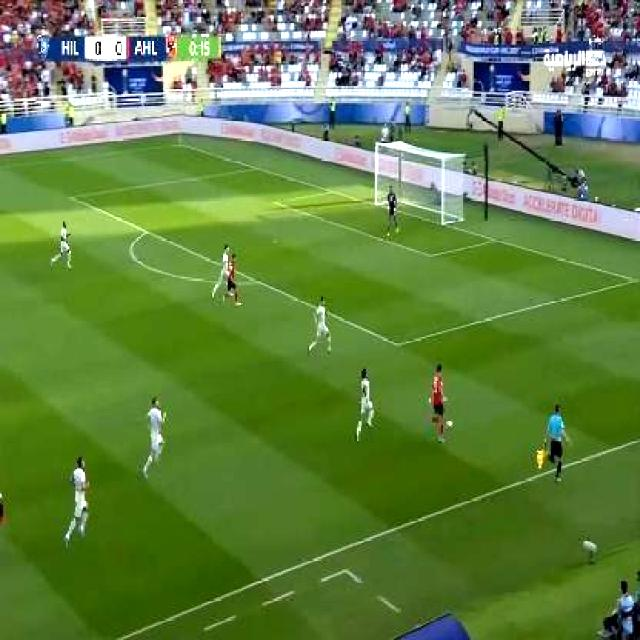bigarea_bottom_inner: (386, 328, 408, 358)
bigarea_bottom_outter: (626, 268, 640, 290)
bigarea_top_inner: (65, 186, 80, 205)
bigarea_top_outter: (248, 160, 262, 174)
bottom_arc_area_intersection: (249, 271, 263, 289)
corner: (171, 137, 186, 149)
smallarea_bottom_inner: (421, 244, 437, 264)
smallarea_bottom_outter: (485, 229, 503, 249)
smallarea_top_inner: (266, 192, 285, 210)
smallarea_top_outter: (322, 182, 338, 198)
top_arc_area_intersection: (137, 222, 154, 240)
